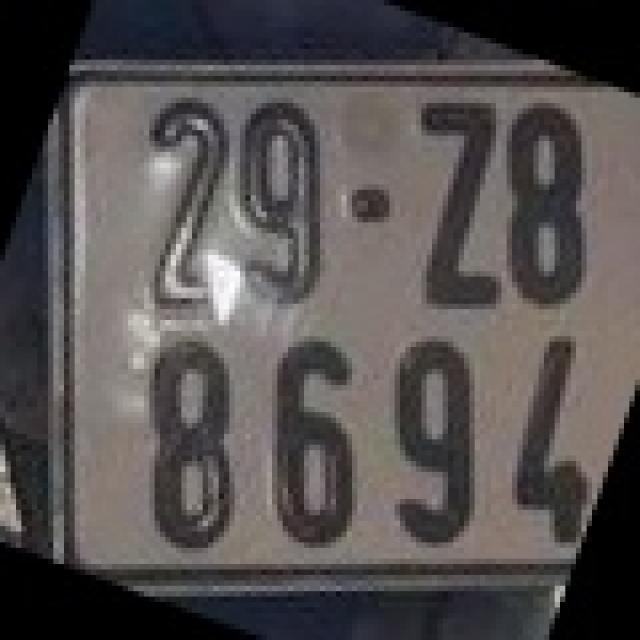2: (138, 92, 230, 309)
4: (507, 331, 597, 548)
6: (266, 336, 362, 548)
8: (138, 336, 240, 548), (507, 92, 597, 309)
9: (384, 331, 486, 548), (229, 98, 331, 309)
Z: (405, 92, 507, 315)
